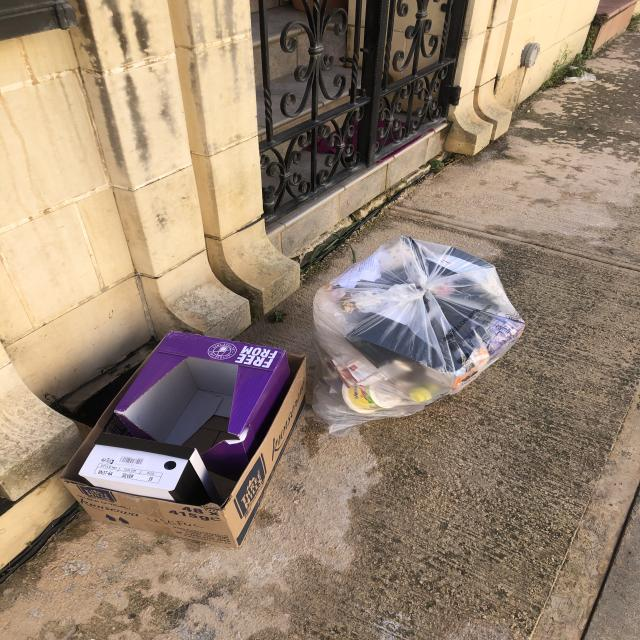Organic Waste -White Bag-: (313, 244, 527, 434)
Other: (76, 337, 313, 532)
